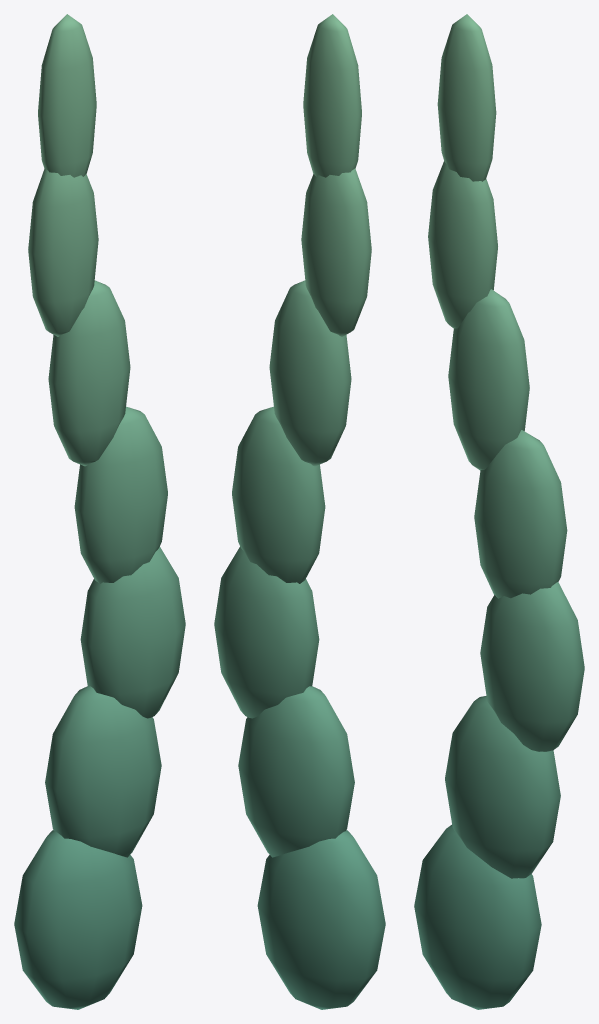
Rendered from kelp_strand.glb.
3 renders of one model, left to right at view 1: azimuth 30°, elevation 25°; view 2: azimuth 150°, elevation 25°; view 3: azimuth 330°, elevation 25°, orthographic.
Visible parts, largest first — view 1: kelp_strand; view 2: kelp_strand; view 3: kelp_strand.
Boxes of the visible parts, bbox=[...] form: kelp_strand: bbox=[14, 14, 185, 1009]; kelp_strand: bbox=[214, 14, 385, 1009]; kelp_strand: bbox=[414, 14, 584, 1009].
Size of the model in its own units: 0.422 by 2.52 by 0.192.
